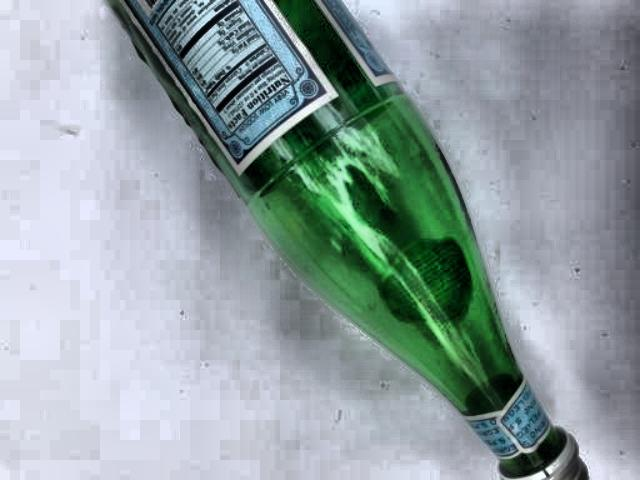Bottles: (98, 0, 607, 480)
